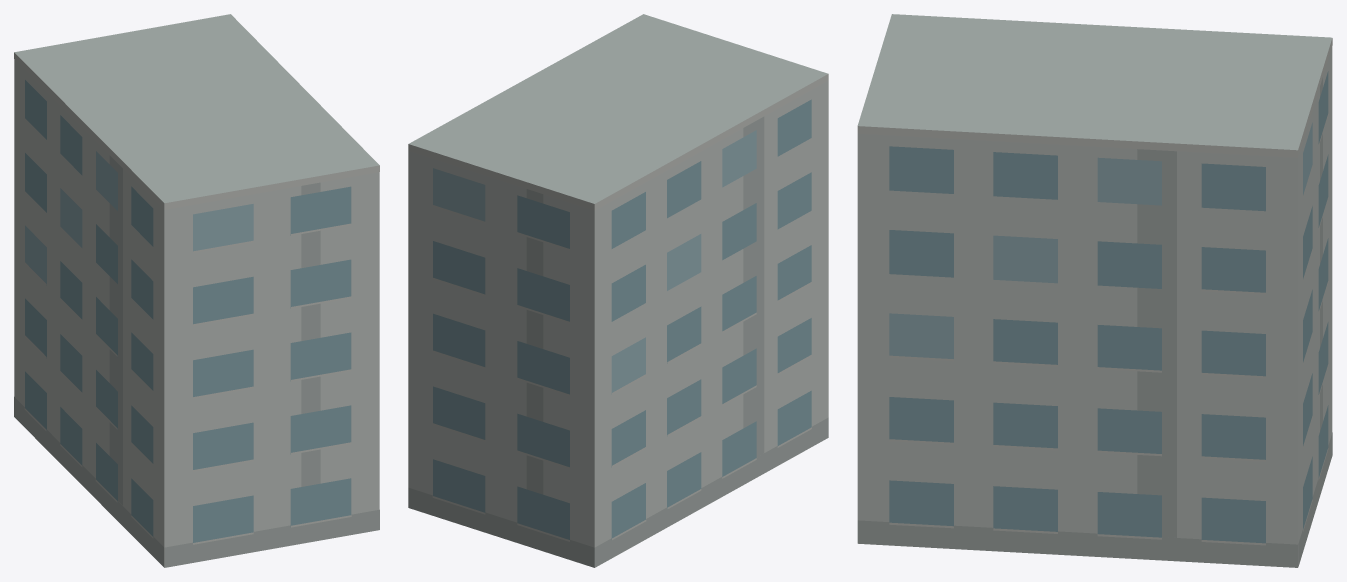
The model's file is survey-upis-33020091.glb.
3 views of the same model, side by side, from view 1: azimuth 30°, elevation 25°; view 2: azimuth 150°, elevation 25°; view 3: azimuth 270°, elevation 25° (orthographic). The views are drawn at different scales.
Parts seen in each view (by area): view 1: survey-upis-33020091.tmp; view 2: survey-upis-33020091.tmp; view 3: survey-upis-33020091.tmp.
Part boxes in pixels (box(x1,y1,x2,y2)): survey-upis-33020091.tmp: box(14, 14, 379, 567); survey-upis-33020091.tmp: box(408, 14, 828, 567); survey-upis-33020091.tmp: box(857, 14, 1332, 567).
Size of the model in its own units: 9.24 by 13.2 by 13.62.
